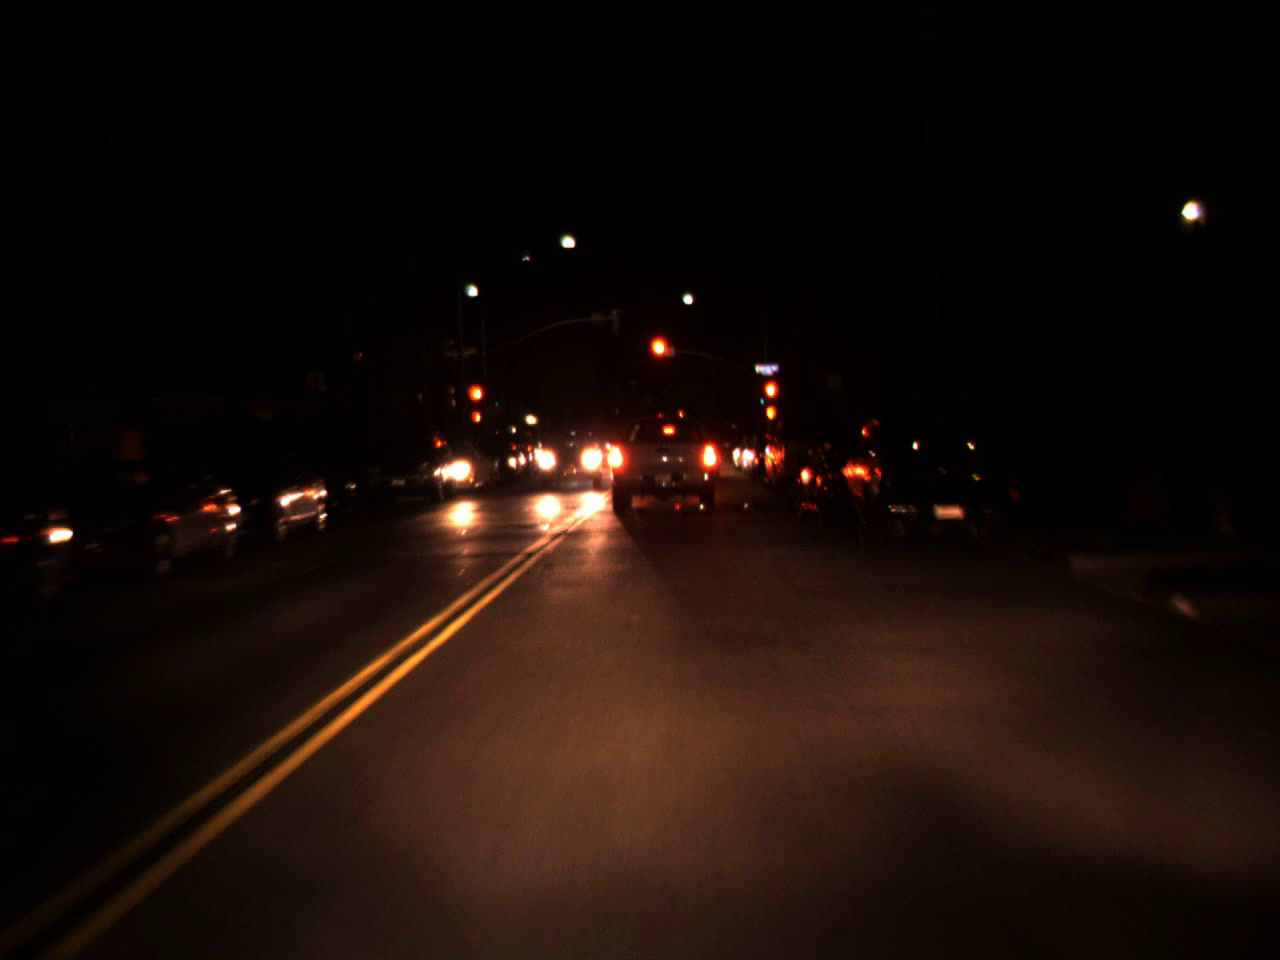stop: (646, 333, 671, 384), (760, 378, 781, 421), (467, 382, 485, 419)
